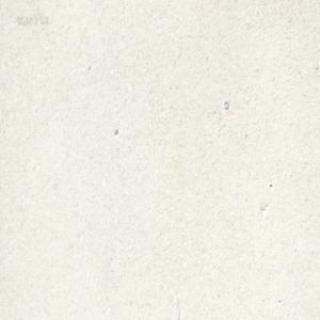Washertrack_idkeyframe: (222, 97, 228, 109)
